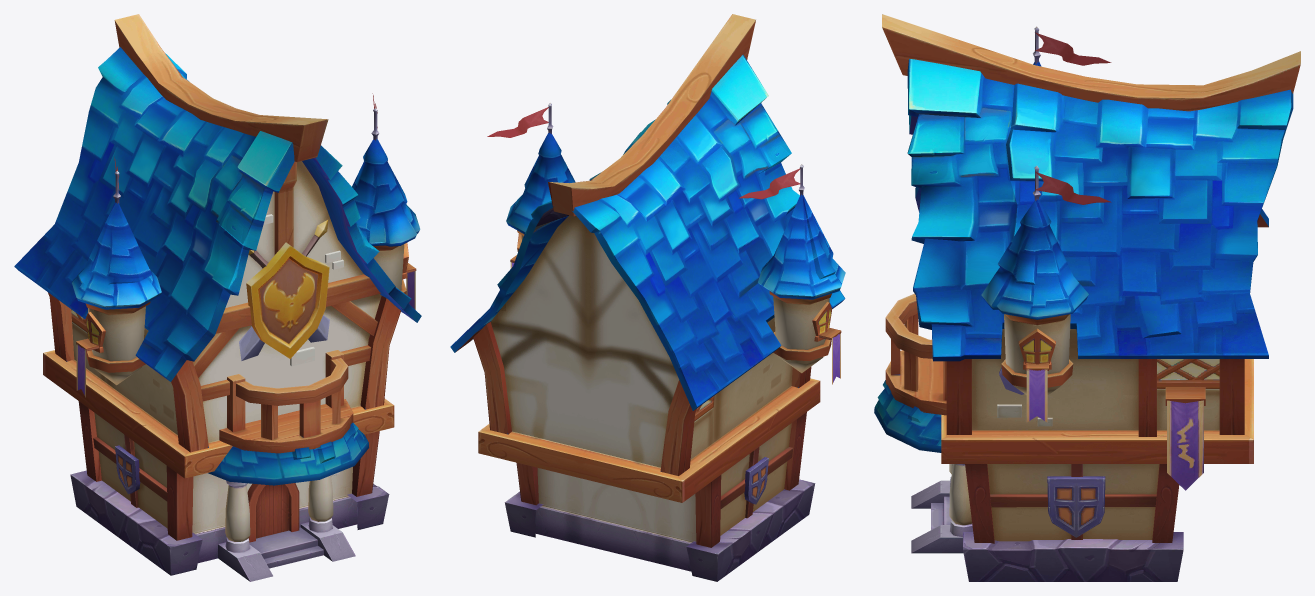
Rendered from ZhuCheng_JianZhu_06.fbx.
3 renders of one model, left to right at view 1: azimuth 30°, elevation 25°; view 2: azimuth 150°, elevation 25°; view 3: azimuth 270°, elevation 25°, orthographic. The views are drawn at different scales.
Parts seen in each view (by area): view 1: ZhuCheng_JianZhu_06; view 2: ZhuCheng_JianZhu_06; view 3: ZhuCheng_JianZhu_06.
Boxes of the visible parts, bbox=[...] form: ZhuCheng_JianZhu_06: bbox=[14, 14, 421, 581]; ZhuCheng_JianZhu_06: bbox=[450, 14, 845, 581]; ZhuCheng_JianZhu_06: bbox=[874, 14, 1300, 581].
Bounding box in the file's own units: 5.38 × 6.91 × 5.3.
